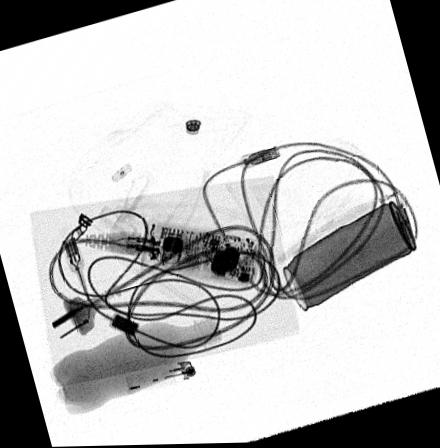Lighter: (125, 361, 196, 395)
